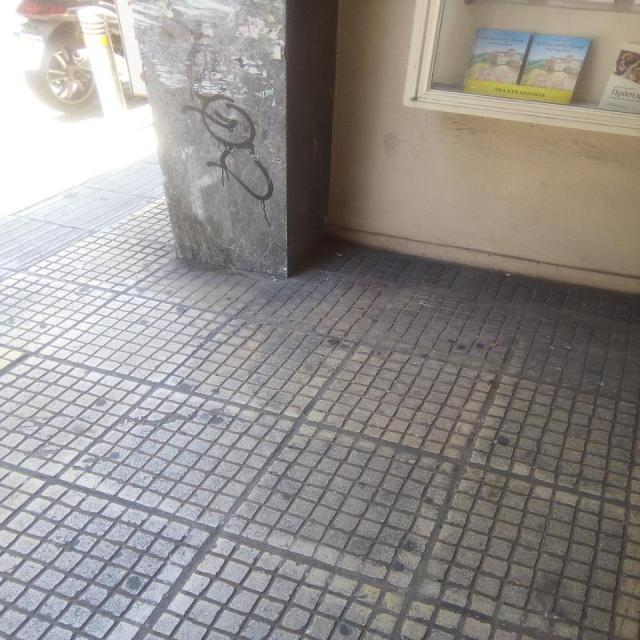nonspitting: (182, 94, 276, 200)
